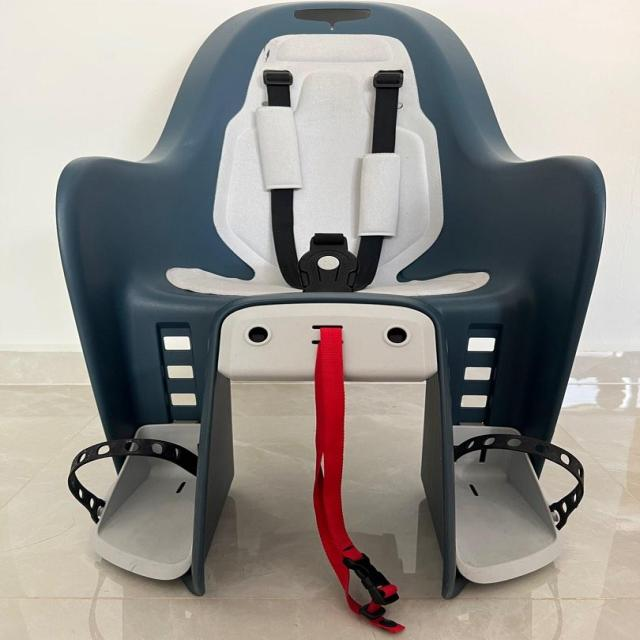childseat: (53, 0, 614, 590)
